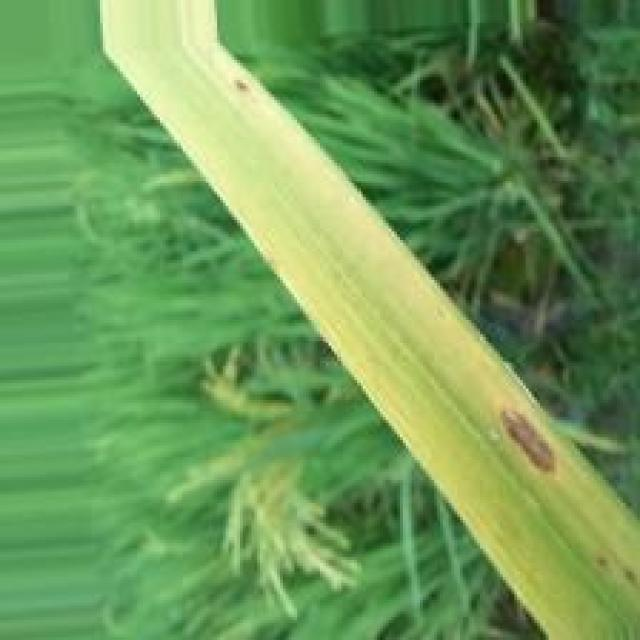Brown_Spot: (495, 396, 569, 480), (234, 70, 254, 94)
